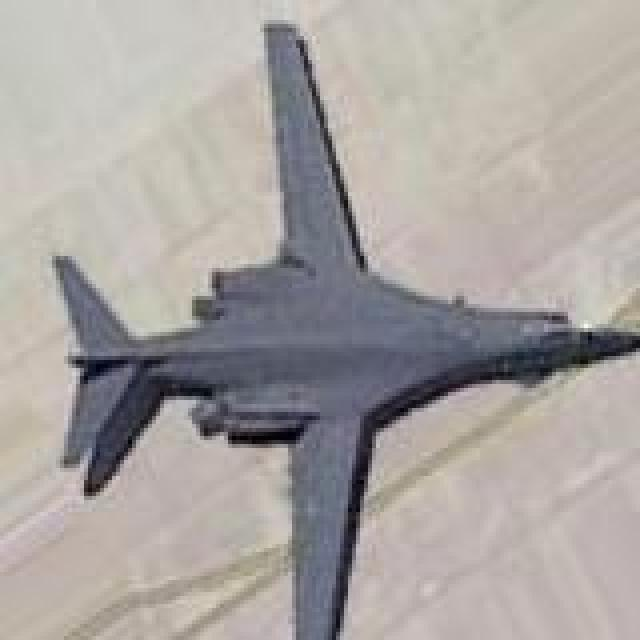B-1_TopDown: (44, 16, 636, 636)
